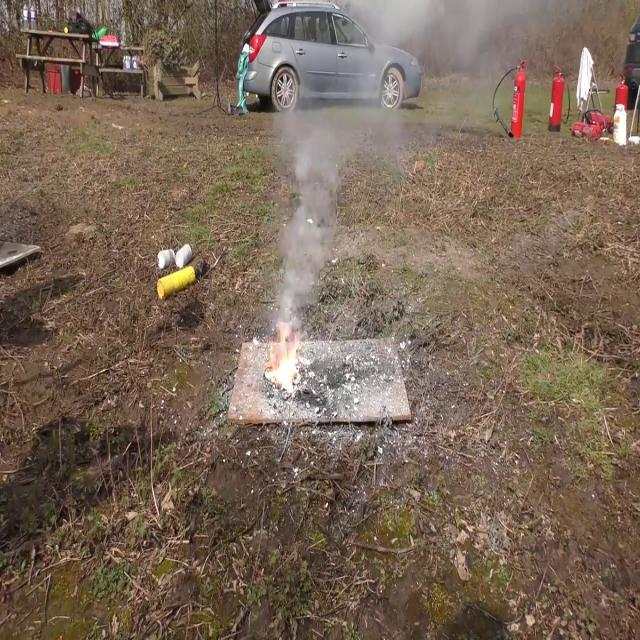Fire: (266, 328, 304, 392)
Smoke: (268, 85, 346, 339)
